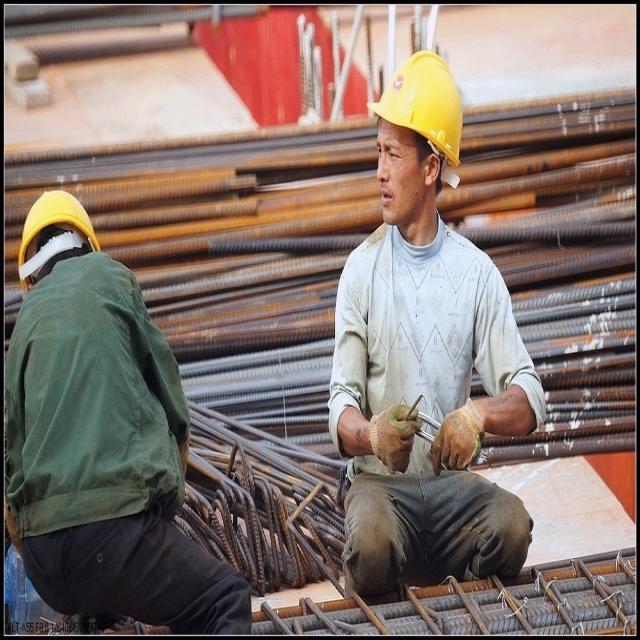helmet: (370, 66, 465, 302), (18, 233, 101, 404)
